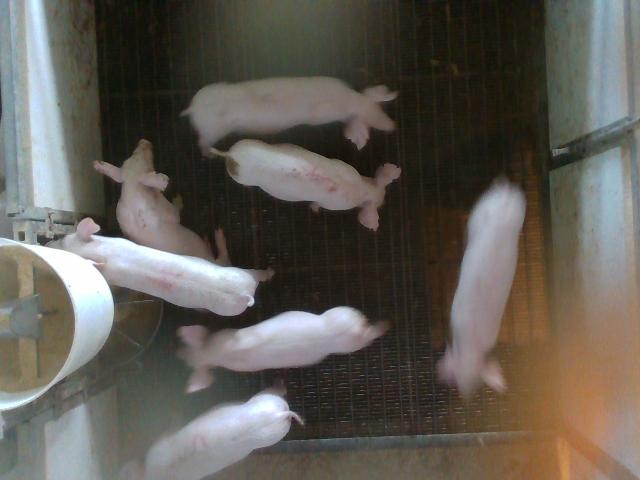pig-4: (49, 218, 274, 316)
pig-5: (211, 139, 401, 229)
